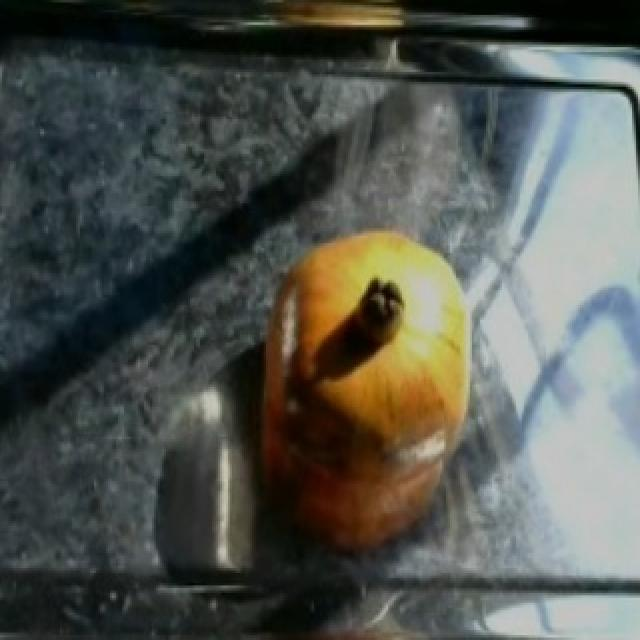fruit: (246, 283, 498, 578), (250, 213, 490, 424)
